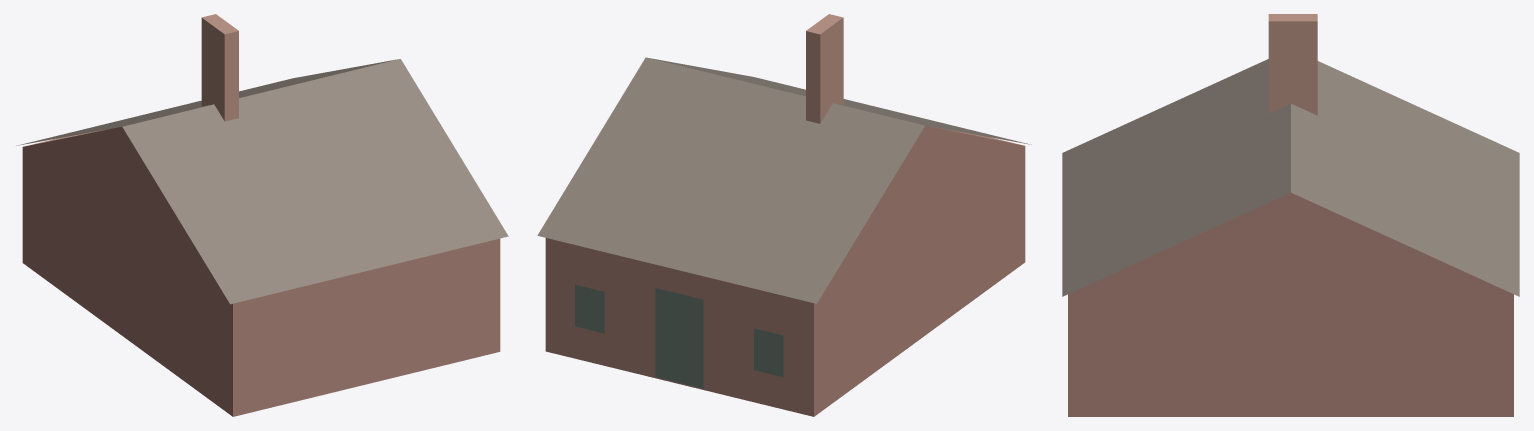
Rendered from recon_1835_north_d5_041__recommended_1835.glb.
3 renders of one model, left to right at view 1: azimuth 30°, elevation 25°; view 2: azimuth 150°, elevation 25°; view 3: azimuth 270°, elevation 25°, orthographic. The views are drawn at different scales.
Visible parts, largest first — view 1: recon_1835_north_d5_041__recommended_1835; view 2: recon_1835_north_d5_041__recommended_1835; view 3: recon_1835_north_d5_041__recommended_1835.
Boxes of the visible parts, x1=… form: recon_1835_north_d5_041__recommended_1835: x1=16, y1=14, x2=508, y2=416; recon_1835_north_d5_041__recommended_1835: x1=537, y1=14, x2=1031, y2=416; recon_1835_north_d5_041__recommended_1835: x1=1062, y1=14, x2=1519, y2=416.
Size of the model in its own units: 6.99 by 7 by 9.38.
